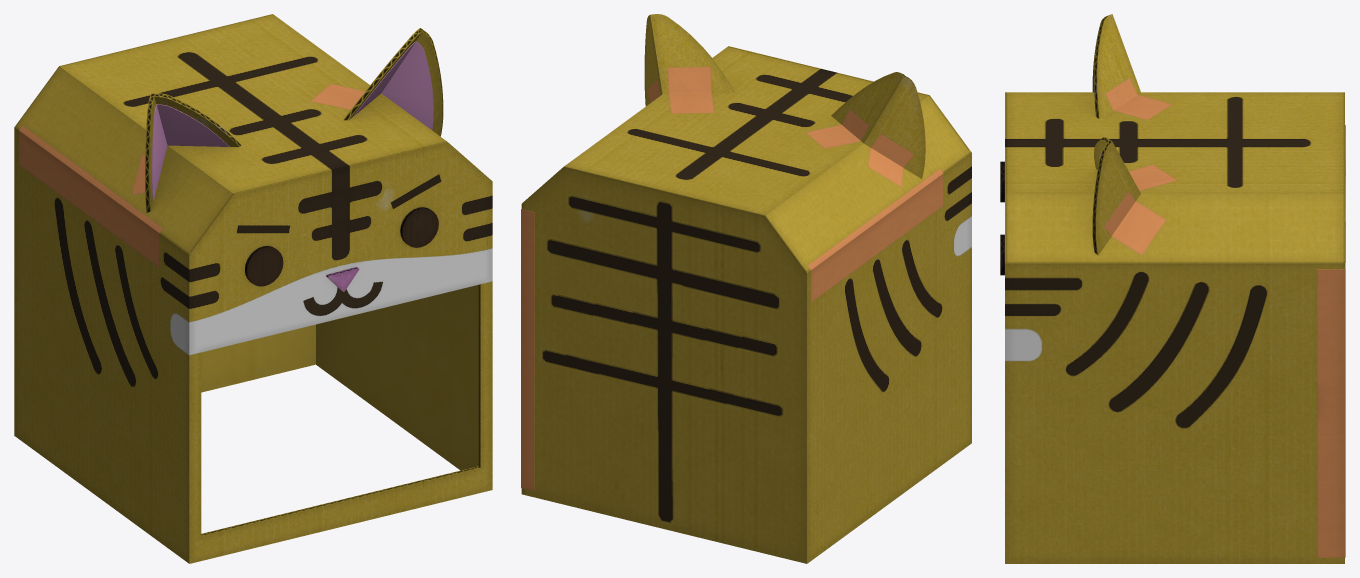
Rendered from cardboard_tiger_head_costume_948.glb.
3 views of the same model, side by side, from view 1: azimuth 30°, elevation 25°; view 2: azimuth 150°, elevation 25°; view 3: azimuth 270°, elevation 25° (orthographic). The views are drawn at different scales.
Visible parts, largest first — view 1: Cardboard Tiger Head Costume_0; view 2: Cardboard Tiger Head Costume_0; view 3: Cardboard Tiger Head Costume_0.
Boxes of the visible parts, x1,y1,x2,y2 form: Cardboard Tiger Head Costume_0: [14, 14, 492, 563]; Cardboard Tiger Head Costume_0: [521, 14, 971, 563]; Cardboard Tiger Head Costume_0: [1000, 14, 1345, 563].
Bounding box in the file's own units: 0.3805 × 0.5109 × 0.3855.
Materials: 1 (1 with a texture image).
